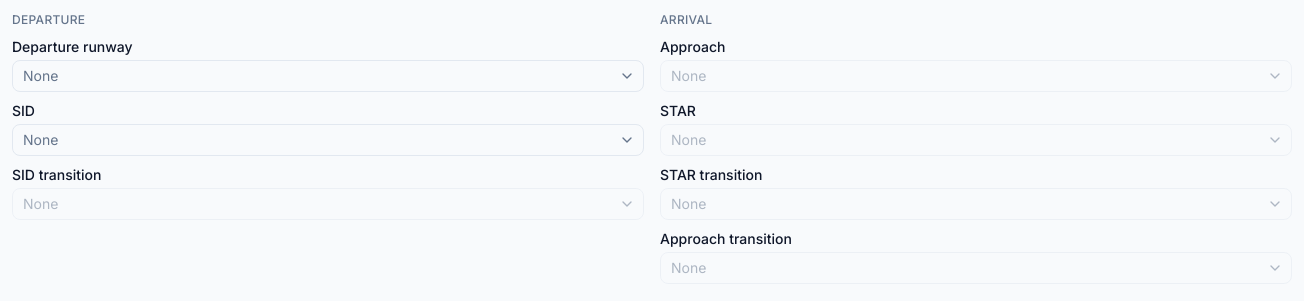
Test: ProcedureSelector › picking a departure runway updates the selection and re-fetches SIDs for it
The width and height of the screenshot is (1304, 301).
Click the dropdown labelled "None" below "Departure runway" at point(41, 76), box [12,60,644,92]
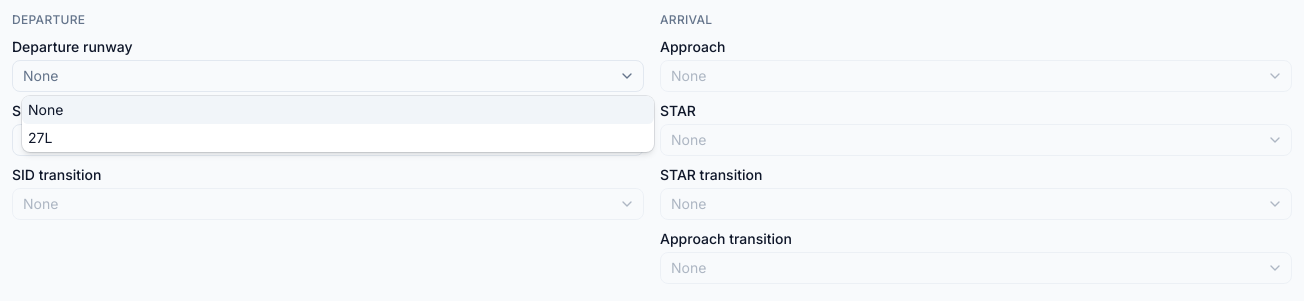
Click the option "27L" at point(40, 138), box [28,129,52,146]
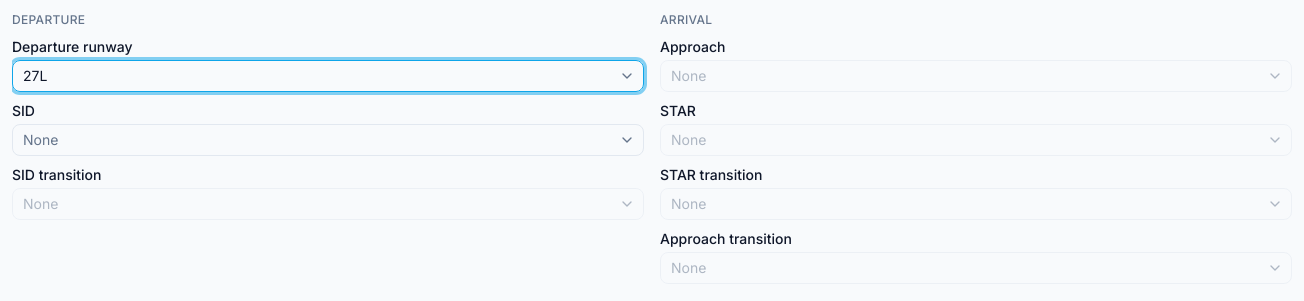
Result: the text "27L" is shown at [23,66,47,86]
